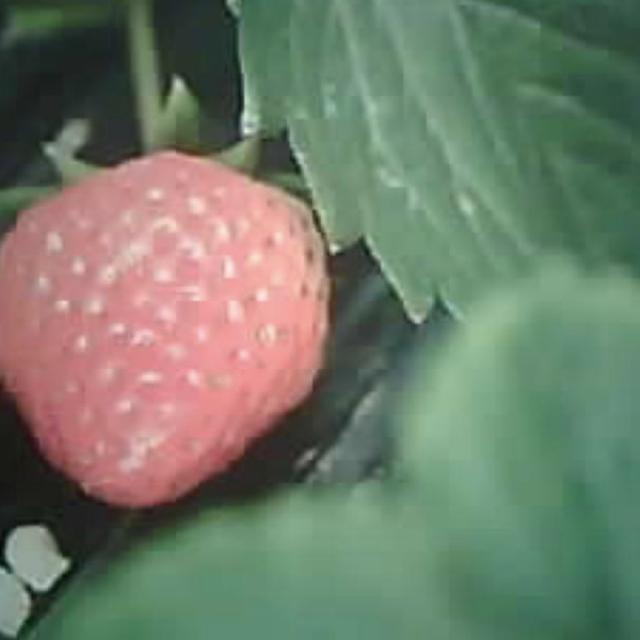Healthy Fruit: (0, 147, 333, 509)
